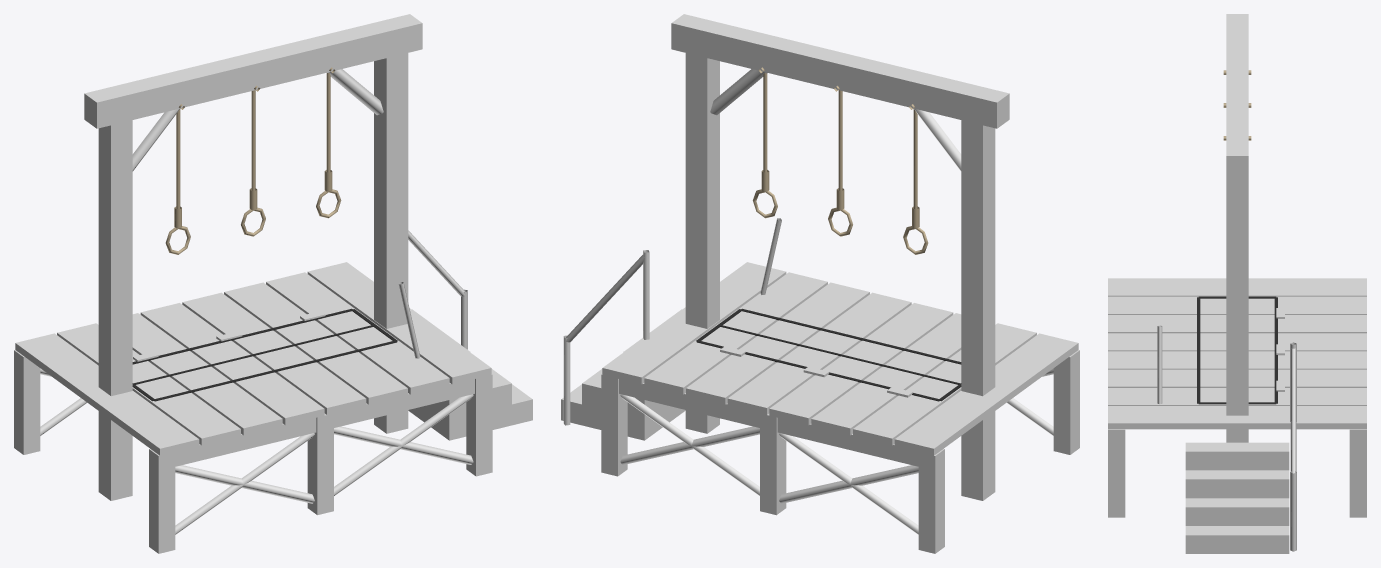
Rendered from gallows.glb.
3 renders of one model, left to right at view 1: azimuth 30°, elevation 25°; view 2: azimuth 150°, elevation 25°; view 3: azimuth 270°, elevation 25°, orthographic. The views are drawn at different scales.
Visible parts, largest first — view 1: gallows; view 2: gallows; view 3: gallows.
Part boxes in pixels (bbox=[...]): gallows: bbox=[14, 14, 532, 553]; gallows: bbox=[561, 14, 1079, 553]; gallows: bbox=[1108, 14, 1366, 553].
Size of the model in its own units: 5 by 4.6 by 3.
